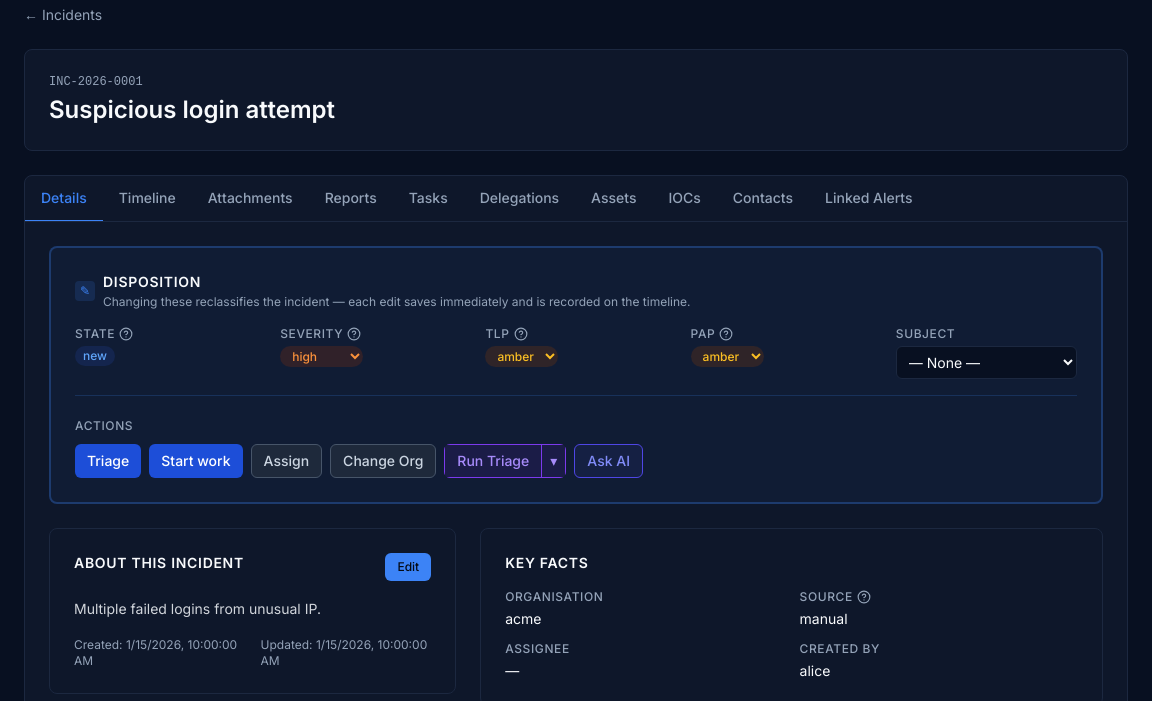
IncidentDetail › PATCHes the description and re-renders it on save (#647)
Expected: the text "Multiple failed logins from unusual IP." is shown, [74,600,321,617]
Click the button "Edit" at x=408, y=567, box [385,553,431,581]
(page scrolled)
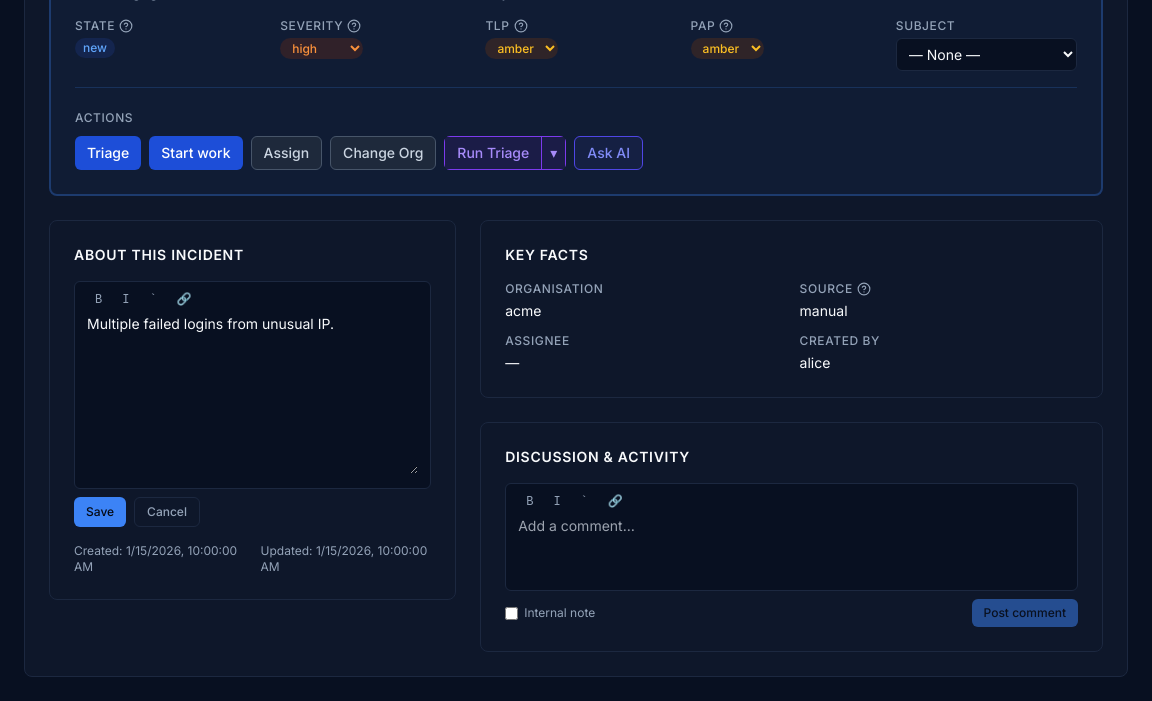
Replace the text in the text box named "Incident description" with "Corrected description." at x=253, y=394, box [87,314,418,474]
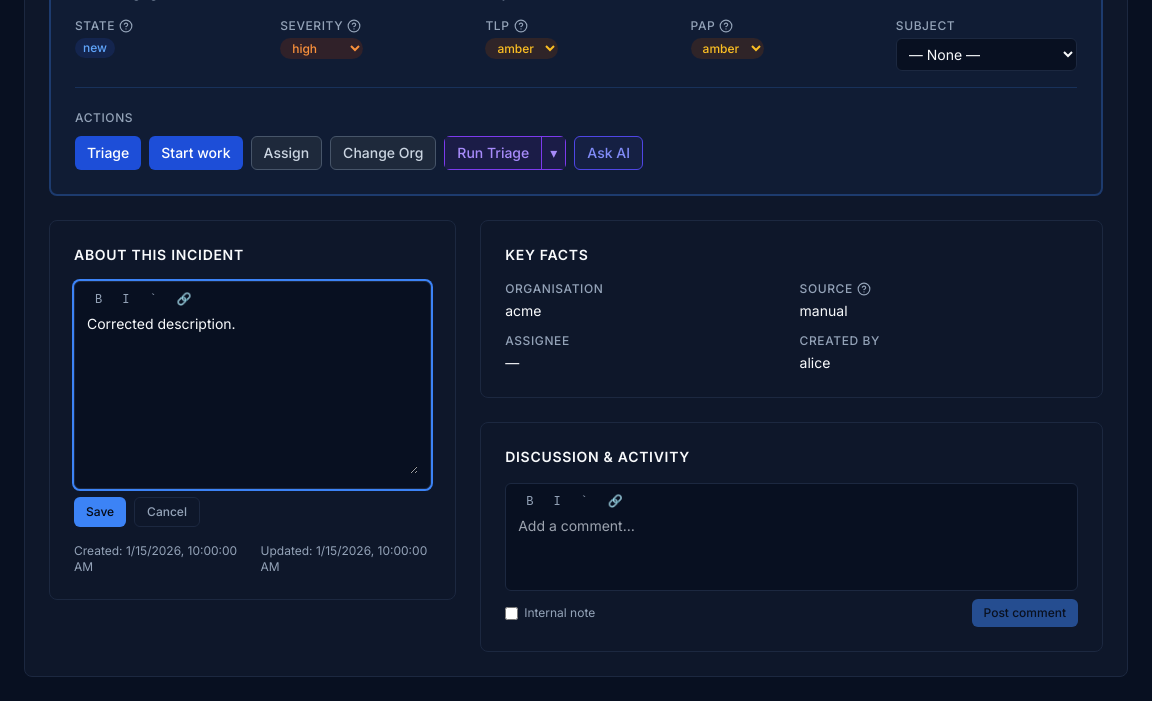
Click the button "Save" at x=100, y=512, box [74,497,126,527]
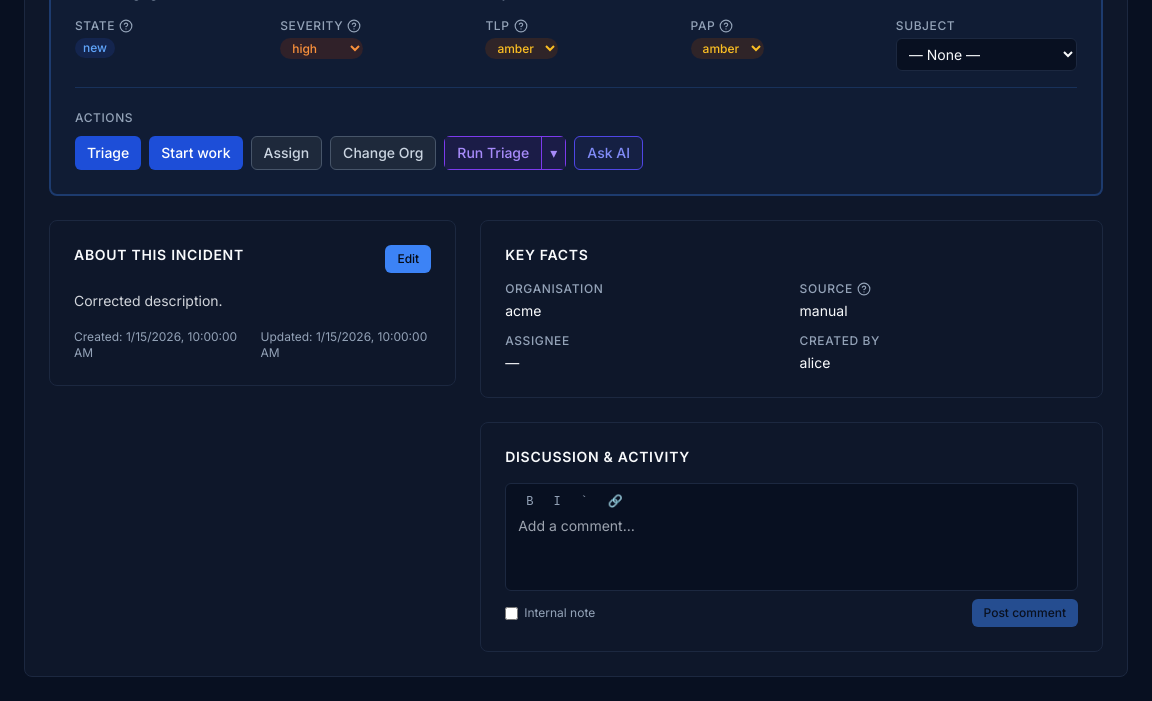
Expected: the text "Corrected description." is shown, [74,292,223,309]
